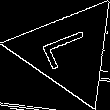L_NE: (37, 27, 100, 75)
